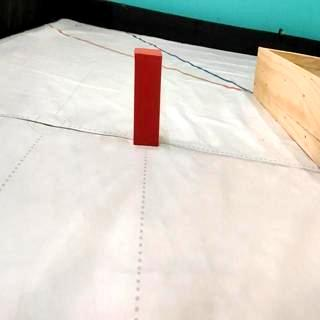redbox: (133, 48, 163, 146)
